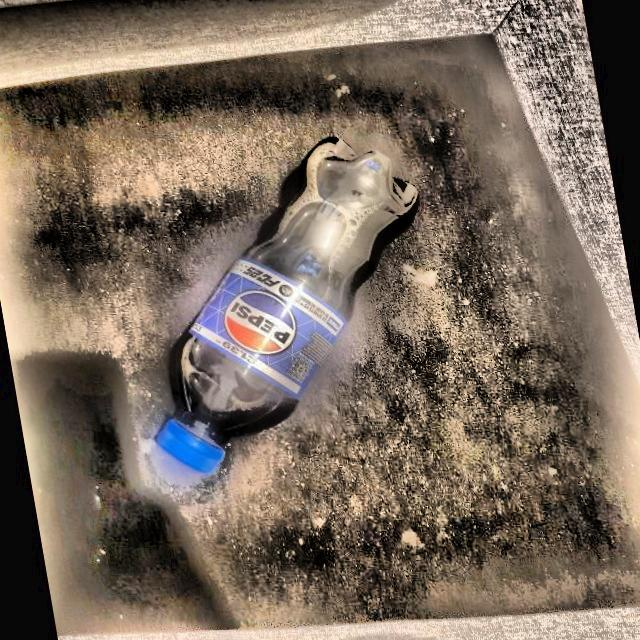pepsi-bottle: (136, 135, 425, 472)
